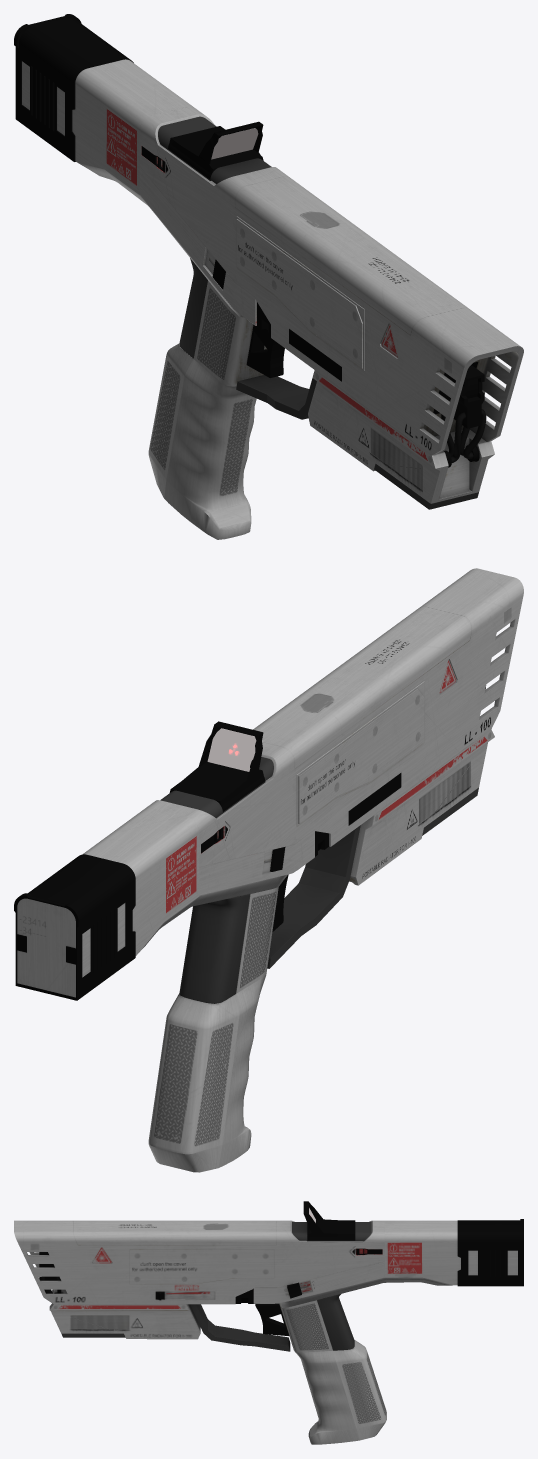
File: lasergunSKETCH.fbx
3 views of the same model, one above another, from view 1: azimuth 30°, elevation 25°; view 2: azimuth 150°, elevation 25°; view 3: azimuth 270°, elevation 25° (orthographic). The views are drawn at different scales.
Parts seen in each view (by area): view 1: gun, mag, gunglass; view 2: gun, mag, gunglass; view 3: gun, mag.
Boxes of the visible parts, box(x1,y1,x2,y2) form: gun: box(78, 106, 523, 539); mag: box(14, 14, 193, 194); gunglass: box(211, 128, 258, 159); gun: box(139, 568, 523, 1172); mag: box(14, 808, 199, 1000); gunglass: box(207, 728, 256, 771); gun: box(14, 1201, 453, 1444); mag: box(384, 1219, 523, 1286).
Size of the model in its own units: 3.62 by 21.07 by 41.85.
